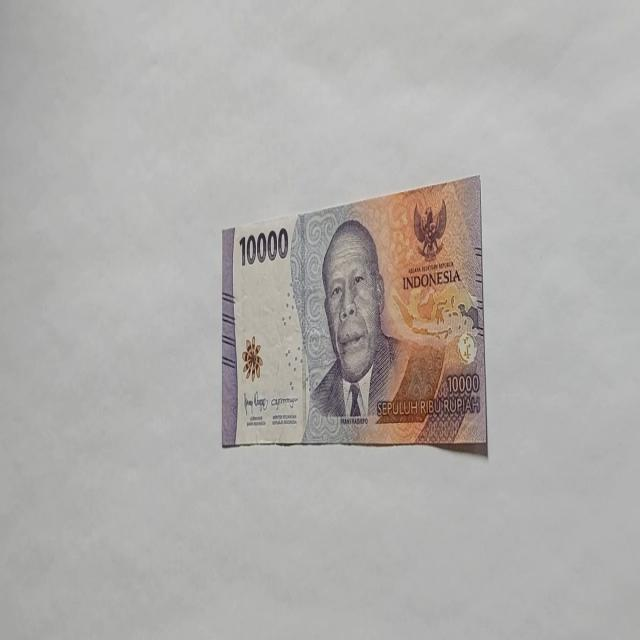sepuluh ribu rupiah: (220, 174, 488, 454)
